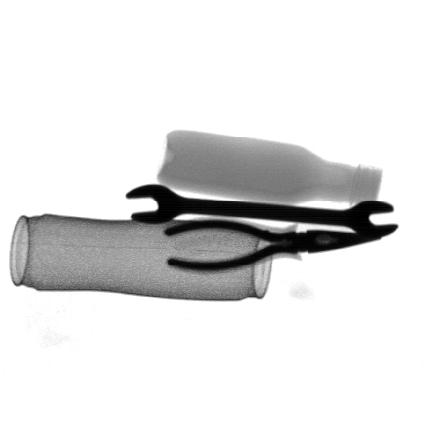Pliers: (164, 216, 385, 272)
Wrench: (125, 183, 398, 239)
